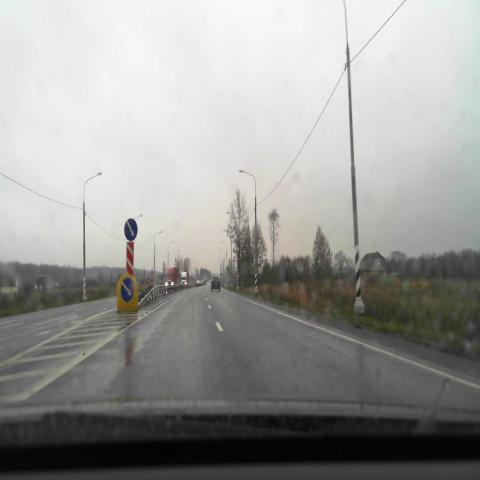4_2_1: (124, 218, 138, 241)
